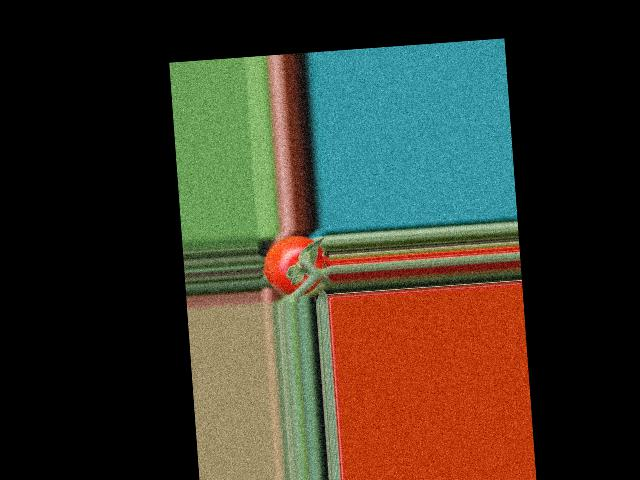tomato: (262, 233, 331, 297)
